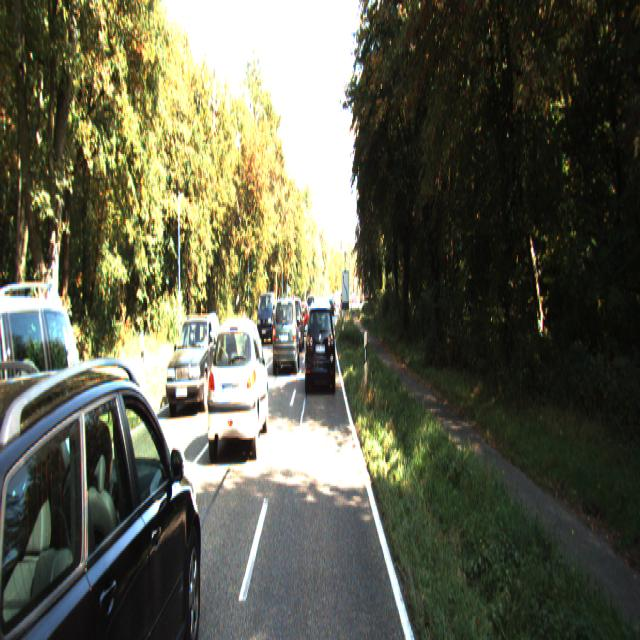Car: (0, 329, 206, 638), (0, 286, 97, 626), (206, 313, 268, 461), (165, 311, 223, 415), (304, 300, 336, 393), (273, 296, 299, 374)
Van: (256, 289, 275, 342)
